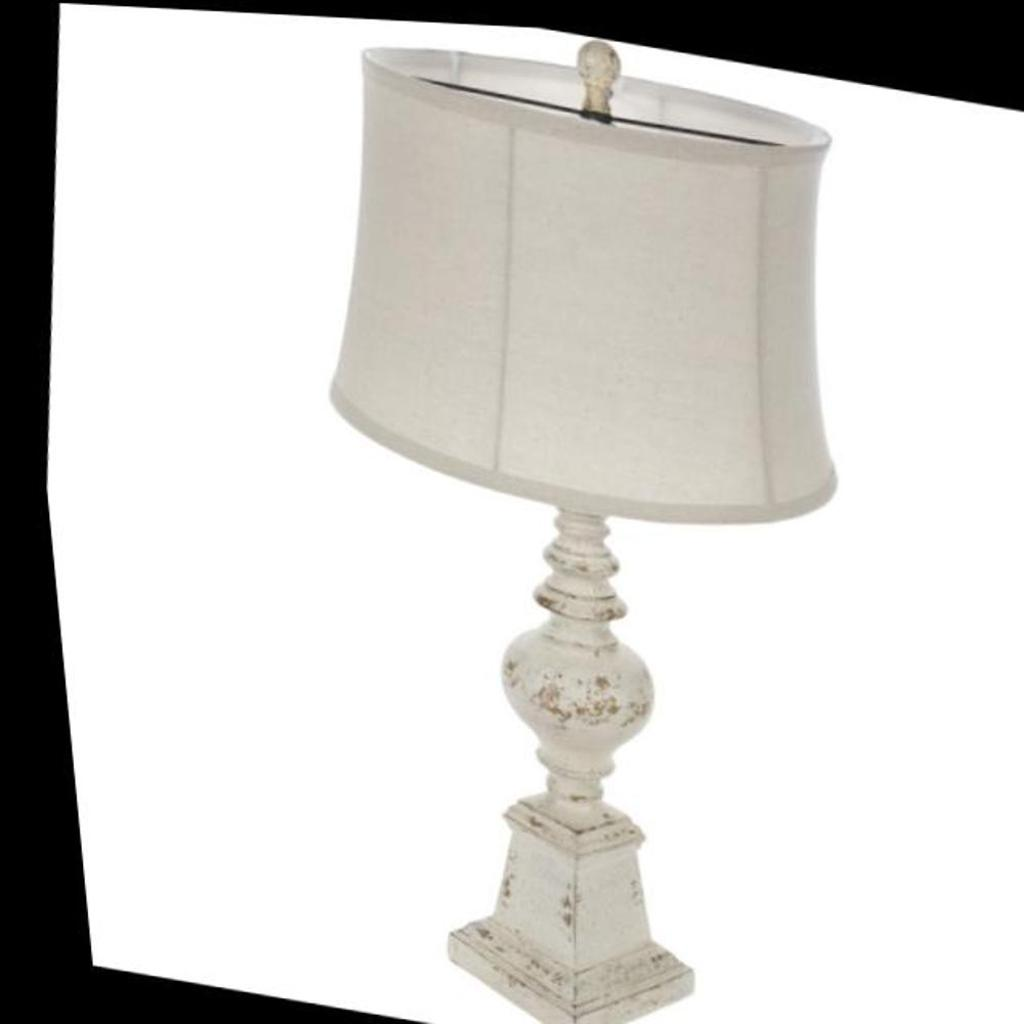shelf: (189, 8, 959, 1024)
